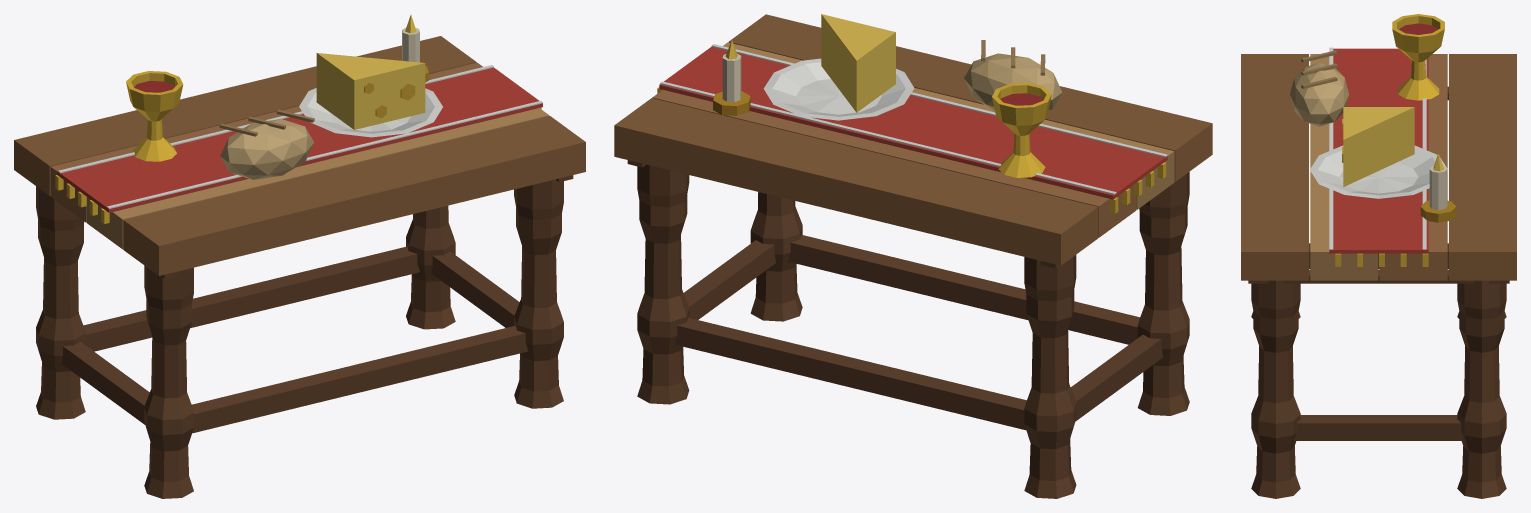
File: Decor_Beanstalk_Table.fbx
The picture shows the model from 3 angles, left to right: view 1: azimuth 30°, elevation 25°; view 2: azimuth 150°, elevation 25°; view 3: azimuth 270°, elevation 25°; orthographic projection. The views are drawn at different scales.
Parts seen in each view (by area): view 1: Table_Body; view 2: Table_Body; view 3: Table_Body.
Part boxes in pixels (x1,y1,x2,y2): Table_Body: (14, 14, 585, 498); Table_Body: (614, 14, 1212, 498); Table_Body: (1241, 14, 1516, 498).
Size of the model in its own units: 24.4 by 17.9 by 14.
